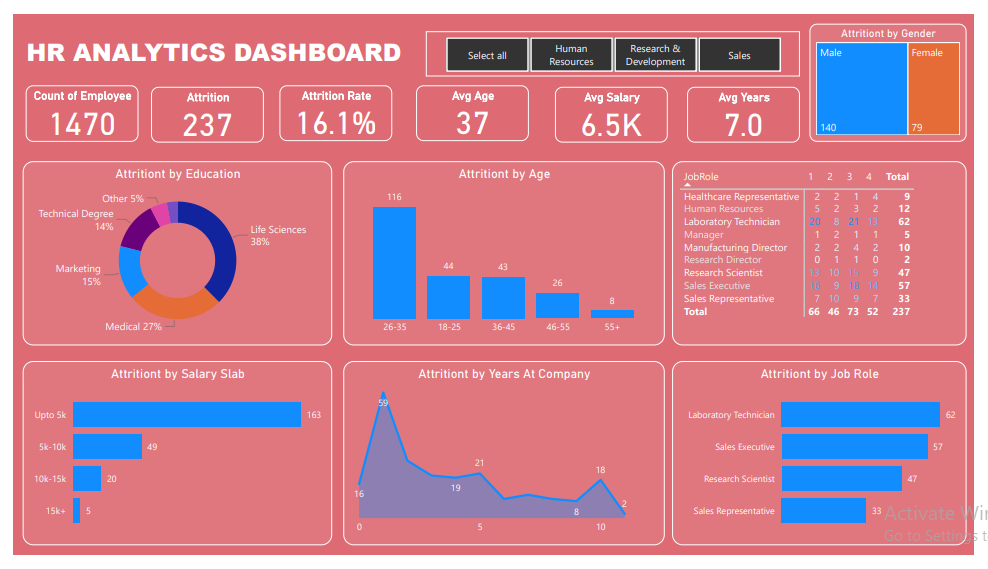

This screenshot's page, from the dashboard's own definition file:
{"tool":"powerbi","page":{"name":"Page 1","canvas":[1280,720],"ordinal":0},"visuals":[{"type":"card","title":"Count of Employee","fields":{"Values":["CountNonNull(HR_Analytics p-bi.EmpID)"]},"box":[16.6,94.8,150,75],"z":0},{"type":"card","title":"Attrition ","fields":{"Values":["Sum(HR_Analytics p-bi.AttritionCount)"]},"box":[184.1,96.5,149.9,74],"z":1000},{"type":"card","title":"Attrition Rate","fields":{"Values":["HR_Analytics p-bi.AttritionRate"]},"box":[355.1,94.8,149.9,74],"z":2000},{"type":"card","title":"Avg Age","fields":{"Values":["Avg(HR_Analytics p-bi.Age)"]},"box":[536.7,94.8,149.9,74],"z":3000},{"type":"card","title":"Avg Salary","fields":{"Values":["Avg(HR_Analytics p-bi.MonthlyIncome)"]},"box":[721.9,96.5,149.9,74],"z":4000},{"type":"card","title":"Avg Years","fields":{"Values":["Avg(HR_Analytics p-bi.YearsAtCompany)"]},"box":[898.2,96.5,149.9,74],"z":5000},{"type":"donutChart","title":"Attritiont by Education","fields":{"Category":["HR_Analytics p-bi.EducationField"],"Y":["Sum(HR_Analytics p-bi.AttritionCount)"]},"box":[12.9,196.2,412.3,244.8],"z":6000},{"type":"columnChart","title":"Attritiont by Age","fields":{"Y":["Sum(HR_Analytics p-bi.AttritionCount)"],"Category":["HR_Analytics p-bi.AgeGroup"]},"box":[439.6,196.2,428.1,244.8],"z":7000},{"type":"pivotTable","fields":{"Rows":["HR_Analytics p-bi.JobRole"],"Columns":["HR_Analytics p-bi.JobSatisfaction"],"Values":["Sum(HR_Analytics p-bi.AttritionCount)"]},"box":[877.7,196.2,392.3,244.8],"z":8000},{"type":"barChart","title":"Attritiont by Salary Slab","fields":{"Category":["HR_Analytics p-bi.SalarySlab"],"Y":["Sum(HR_Analytics p-bi.AttritionCount)"]},"box":[12.9,462.5,412.3,244.8],"z":9000},{"type":"barChart","title":"Attritiont by Job Role","fields":{"Y":["Sum(HR_Analytics p-bi.AttritionCount)"],"Category":["HR_Analytics p-bi.JobRole"]},"box":[877.7,462.5,392.3,244.8],"z":10000},{"type":"areaChart","title":"Attritiont by Years At Company","fields":{"Category":["HR_Analytics p-bi.YearsAtCompany"],"Y":["Sum(HR_Analytics p-bi.AttritionCount)"]},"box":[439.6,462.5,428.1,244.8],"z":11000},{"type":"treemap","title":"Attritiont by Gender","fields":{"Group":["HR_Analytics p-bi.Gender"],"Values":["Sum(HR_Analytics p-bi.AttritionCount)"]},"box":[1060.9,12.9,209,157.5],"z":12000},{"type":"slicer","fields":{"Values":["HR_Analytics p-bi.Department"]},"box":[549.8,22.9,498.3,60.1],"z":13000},{"type":"textbox","box":[12.9,22.9,524,60.1],"z":14000}]}

Visuals, with their boxes in screenshot pixels (x1, y1, x2, y2), scaled from the page's 1280x720 canvas onto the 988x569 screenshot:
"Count of Employee" card: pyautogui.locateOnScreen(13, 75, 129, 134)
"Attrition " card: pyautogui.locateOnScreen(142, 76, 258, 135)
"Attrition Rate" card: pyautogui.locateOnScreen(274, 75, 390, 133)
"Avg Age" card: pyautogui.locateOnScreen(414, 75, 530, 133)
"Avg Salary" card: pyautogui.locateOnScreen(557, 76, 673, 135)
"Avg Years" card: pyautogui.locateOnScreen(693, 76, 809, 135)
"Attritiont by Education" donutChart: pyautogui.locateOnScreen(10, 155, 328, 349)
"Attritiont by Age" columnChart: pyautogui.locateOnScreen(339, 155, 670, 349)
pivotTable - HR_Analytics p-bi.JobRole x HR_Analytics p-bi.JobSatisfaction: pyautogui.locateOnScreen(677, 155, 980, 349)
"Attritiont by Salary Slab" barChart: pyautogui.locateOnScreen(10, 366, 328, 559)
"Attritiont by Job Role" barChart: pyautogui.locateOnScreen(677, 366, 980, 559)
"Attritiont by Years At Company" areaChart: pyautogui.locateOnScreen(339, 366, 670, 559)
"Attritiont by Gender" treemap: pyautogui.locateOnScreen(819, 10, 980, 135)
slicer - HR_Analytics p-bi.Department: pyautogui.locateOnScreen(424, 18, 809, 66)
textbox: pyautogui.locateOnScreen(10, 18, 414, 66)
